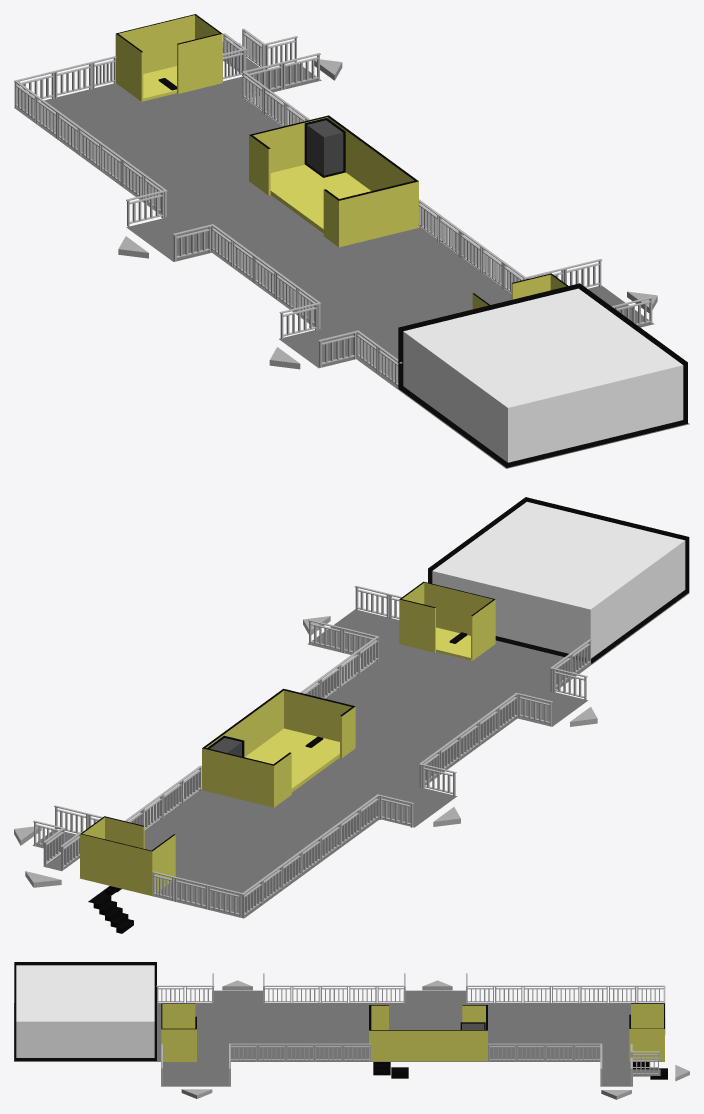
The picture shows the model from 3 angles, top to bottom: view 1: azimuth 30°, elevation 25°; view 2: azimuth 150°, elevation 25°; view 3: azimuth 270°, elevation 25°; orthographic projection. The views are drawn at different scales.
Visible parts, largest first — view 1: object, room_8_5_1, object_line, エレベーター_8_5_1; view 2: object, room_8_5_1, object_line, 階段_8_5_1; view 3: object, room_8_5_1, object_line, 階段_8_5_3, 階段_8_5_1, transitionTo_8_5_5, transitionTo_8_5_2.
Part boxes in pixels (x1,y1,x2,y2): object: (14, 14, 689, 468); room_8_5_1: (403, 288, 683, 462); object_line: (398, 283, 687, 467); エレベーター_8_5_1: (307, 120, 343, 175); object: (32, 581, 689, 918); room_8_5_1: (432, 502, 685, 658); object_line: (428, 497, 689, 663); 階段_8_5_1: (88, 886, 133, 933); object: (14, 973, 665, 1086); room_8_5_1: (16, 965, 154, 1057); object_line: (14, 962, 156, 1060); 階段_8_5_3: (373, 1062, 408, 1078); 階段_8_5_1: (633, 1062, 667, 1079); transitionTo_8_5_5: (422, 980, 452, 990); transitionTo_8_5_2: (222, 980, 252, 990).
Bounding box in the file's own units: 1.16 × 0.338 × 2.86.
